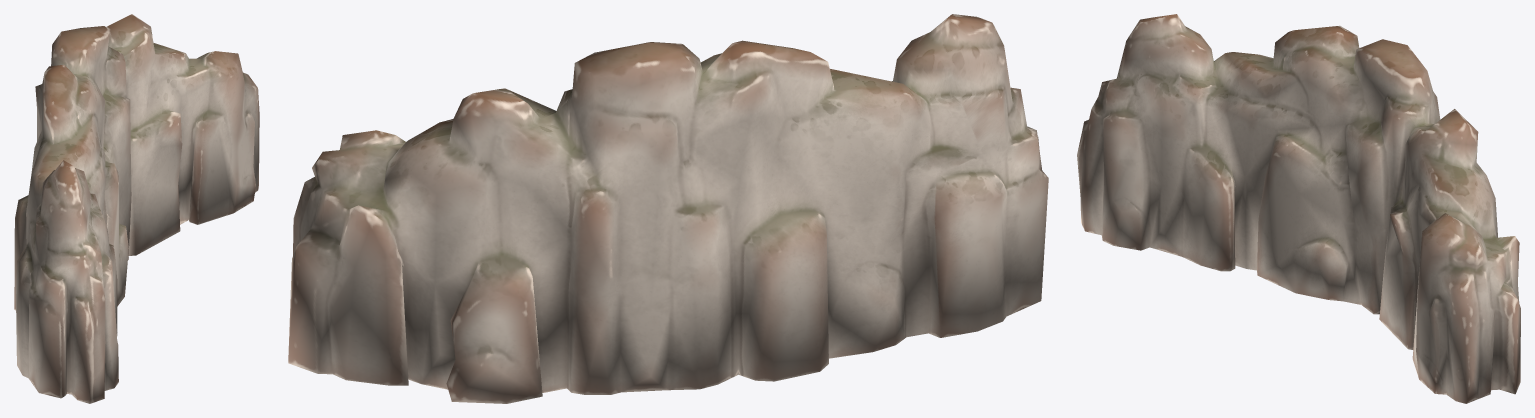
Rendered from Rock Curved Wall 2.FBX.
3 views of the same model, side by side, from view 1: azimuth 30°, elevation 25°; view 2: azimuth 150°, elevation 25°; view 3: azimuth 270°, elevation 25° (orthographic). The views are drawn at different scales.
Parts seen in each view (by area): view 1: Rock Curved Wall 2; view 2: Rock Curved Wall 2; view 3: Rock Curved Wall 2.
Boxes of the visible parts, bbox=[...] form: Rock Curved Wall 2: bbox=[14, 14, 259, 403]; Rock Curved Wall 2: bbox=[288, 14, 1048, 403]; Rock Curved Wall 2: bbox=[1077, 14, 1520, 403].
Bounding box in the file's own units: 8007 × 4682 × 7698.
Materials: 1 (1 with a texture image).
